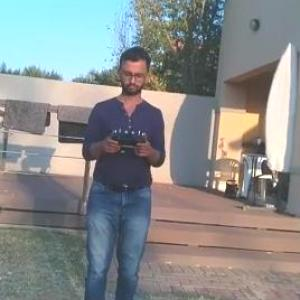follow: (84, 47, 181, 299)
